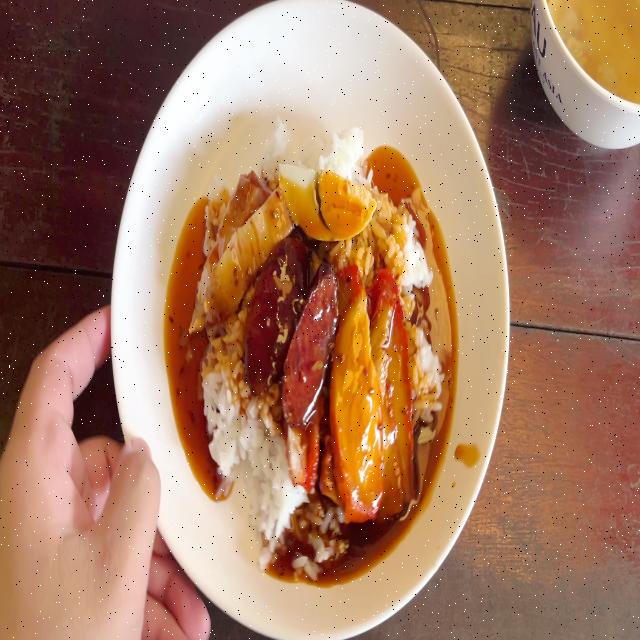boiled_egg: (278, 166, 376, 244)
chainese_sausage: (248, 243, 340, 412)
crispy_pork: (192, 172, 286, 314)
red_pork: (330, 279, 409, 525), (369, 291, 414, 517), (338, 292, 375, 501)
red_pork_and_crispy_pork: (189, 117, 450, 556)
rice: (205, 340, 249, 479), (256, 422, 294, 552), (376, 190, 432, 275)
